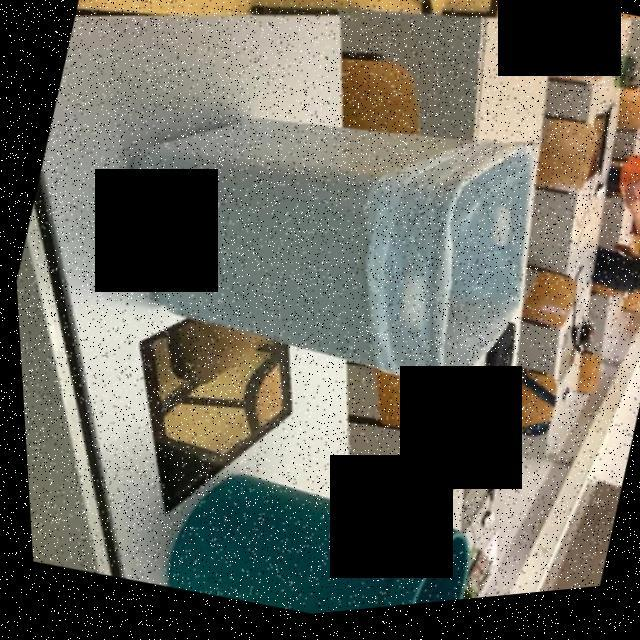bin: (47, 20, 617, 486), (95, 409, 529, 634)
